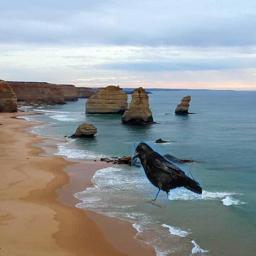Crow: (131, 141, 202, 208)
